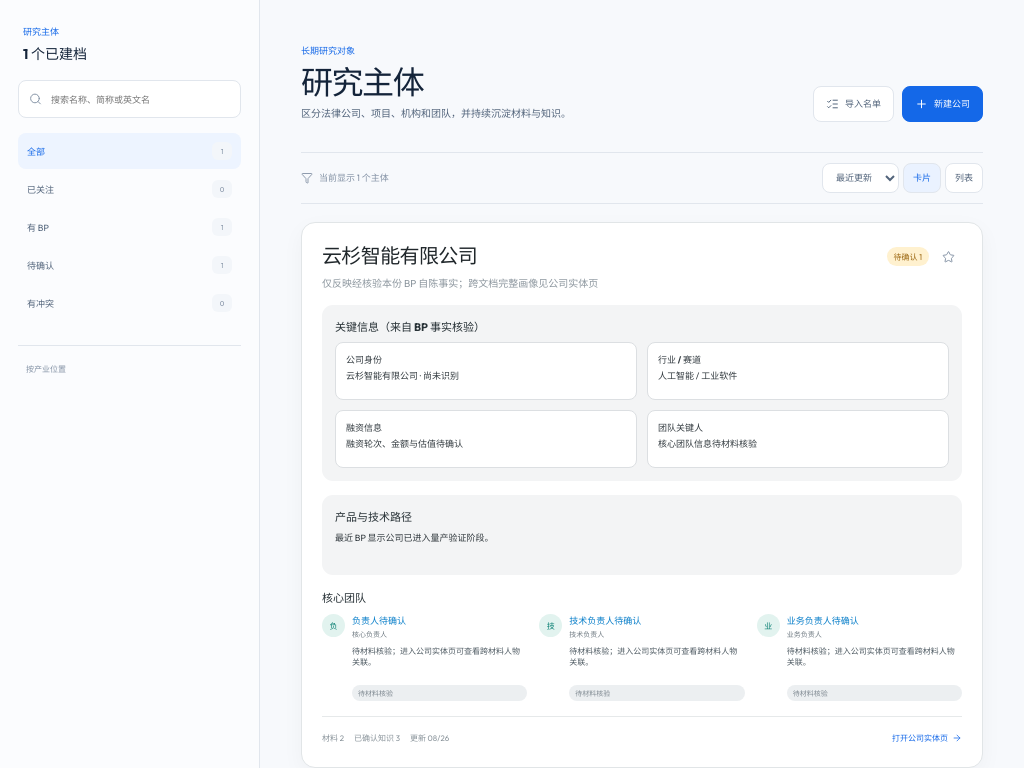
it: 持久公司目录页面 › 列表关注按钮直接写入 SQLite，并且不会打开公司详情
Click the button named "关注云杉智能有限公司" at (948, 257), box top-left (934, 243), bottom-right (962, 271)
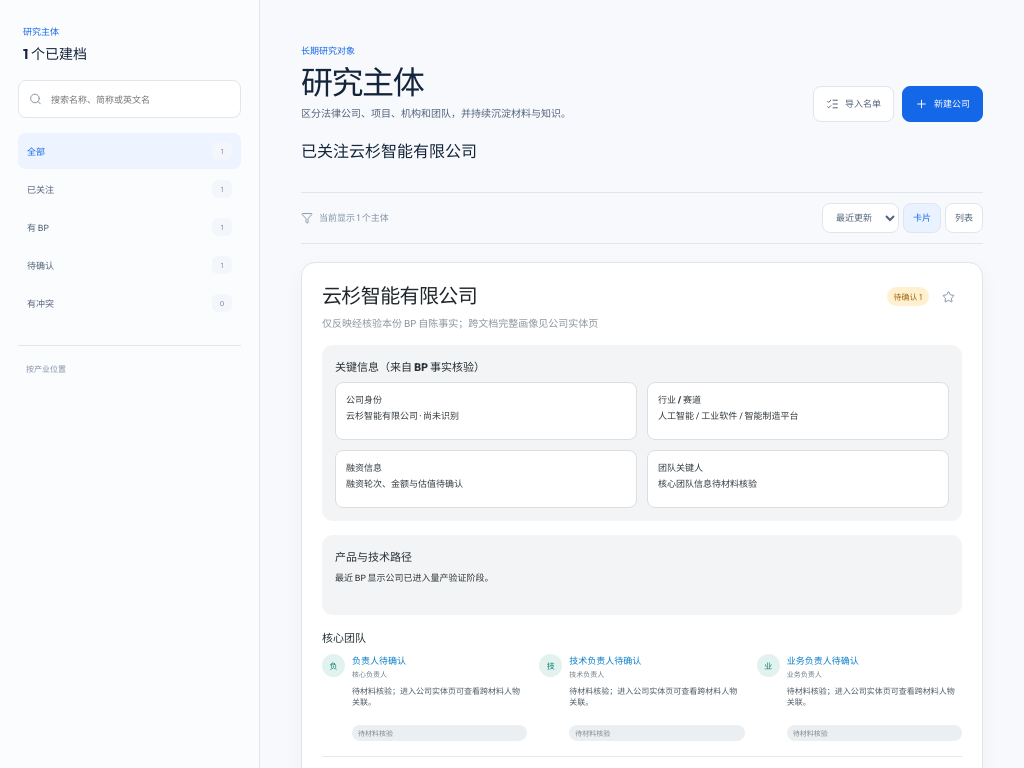
Check: the button named "取消关注云杉智能有限公司" is shown, box top-left (934, 283), bottom-right (962, 311)
Check: the text "已关注云杉智能有限公司" is shown, box top-left (301, 141), bottom-right (477, 161)
